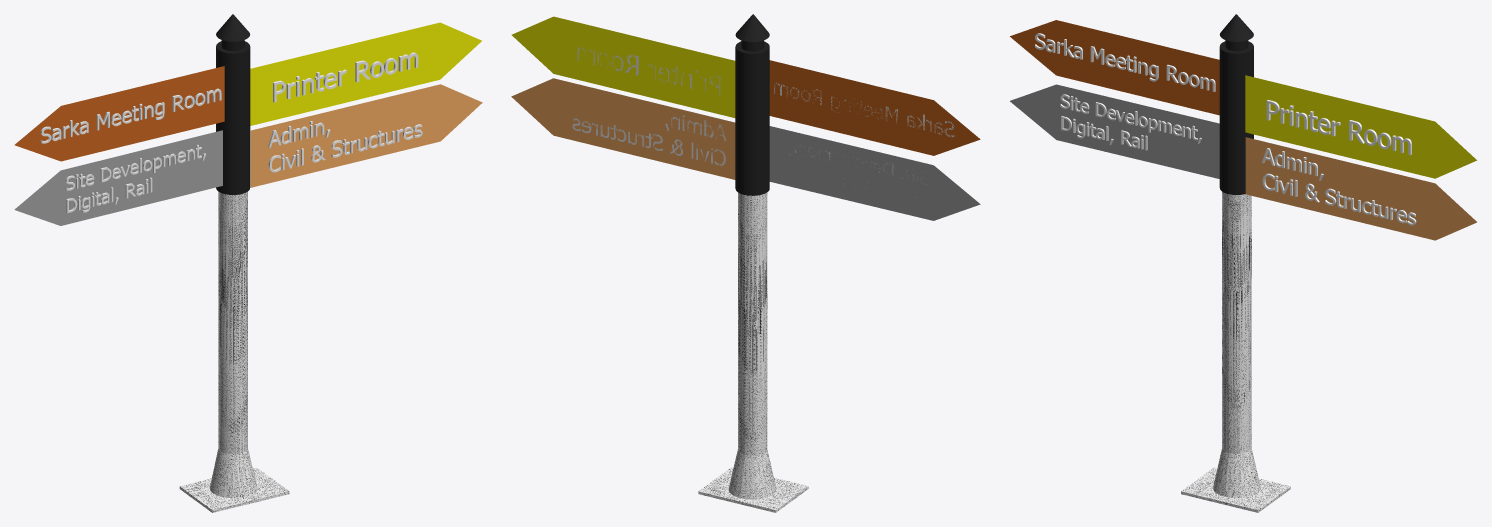
3 renders of one model, left to right at view 1: azimuth 30°, elevation 25°; view 2: azimuth 150°, elevation 25°; view 3: azimuth 330°, elevation 25°, orthographic.
Parts seen in each view (by area): view 1: SketchUp (×5), group_0, group_1; view 2: SketchUp (×5), group_0, group_1; view 3: SketchUp (×5), group_0, group_1.
Part boxes in pixels (box(x1,y1,x2,y2)): SketchUp (×5): box(14, 14, 481, 512); group_0: box(250, 84, 482, 187); group_1: box(14, 130, 222, 225); SketchUp (×5): box(511, 14, 980, 512); group_0: box(511, 78, 735, 179); group_1: box(769, 126, 980, 220); SketchUp (×5): box(1010, 14, 1476, 512); group_0: box(1245, 137, 1476, 240); group_1: box(1010, 84, 1219, 178).
Size of the model in its own units: 44.41 by 5.38 by 43.19.
